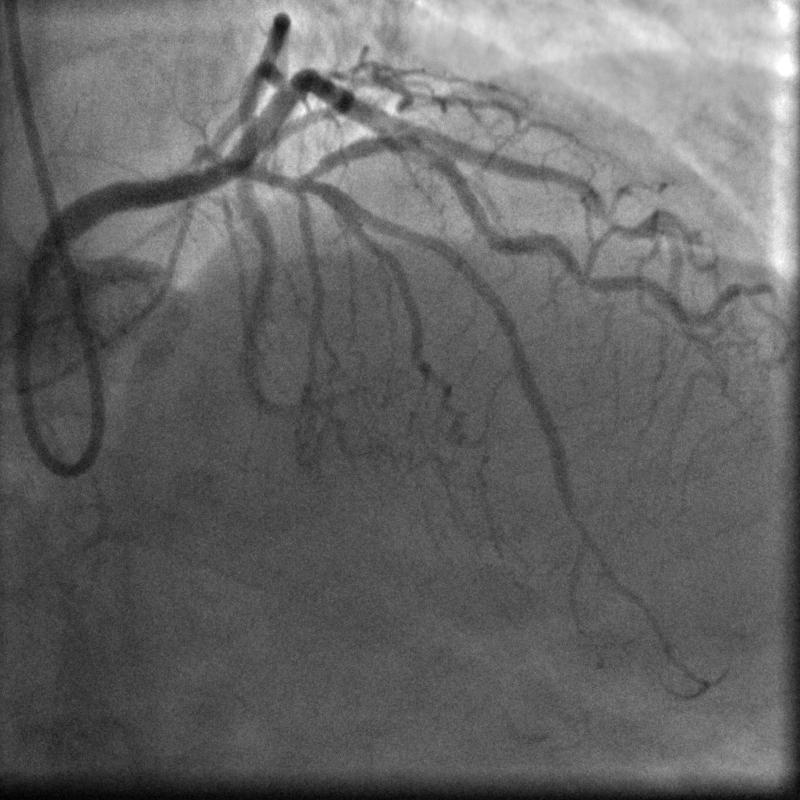Stenosis: (401, 133, 451, 174)
